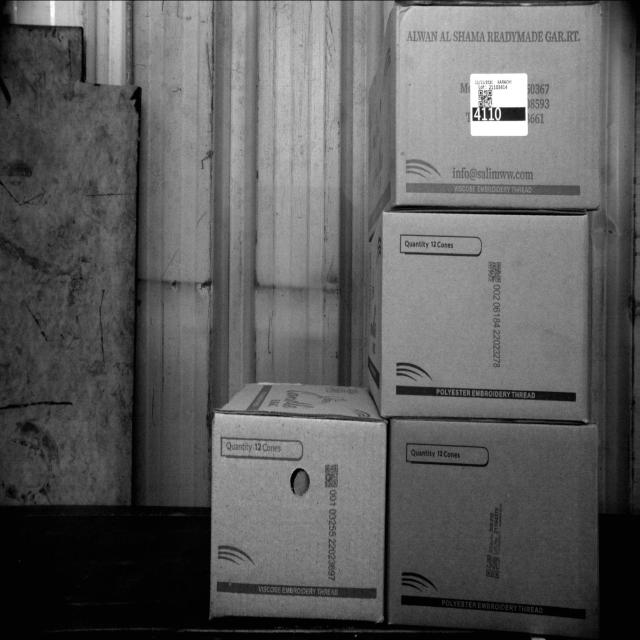cardboxes: (381, 209, 590, 423), (384, 426, 598, 626), (395, 9, 601, 208), (214, 415, 386, 623)
